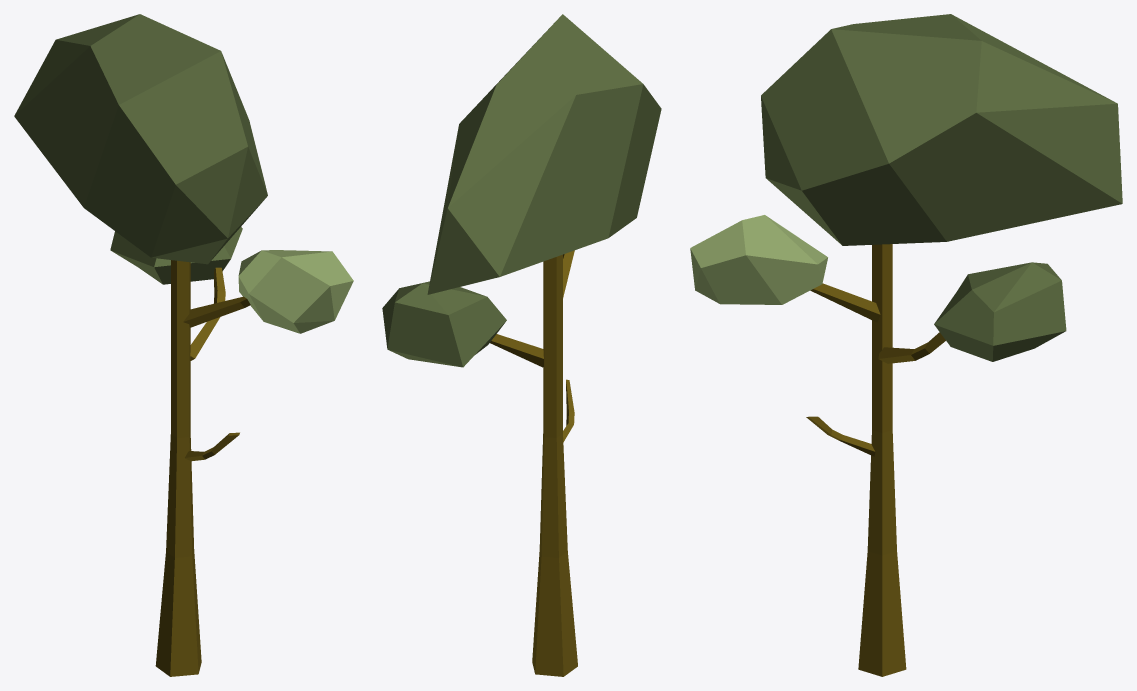
File: Tree_02.fbx
3 views of the same model, side by side, from view 1: azimuth 30°, elevation 25°; view 2: azimuth 150°, elevation 25°; view 3: azimuth 270°, elevation 25° (orthographic). The views are drawn at different scales.
Visible parts, largest first — view 1: pCylinder18; view 2: pCylinder18; view 3: pCylinder18.
Part boxes in pixels (left/top/right/bottom): pCylinder18: left=14, top=14, right=353, bottom=676; pCylinder18: left=382, top=14, right=661, bottom=676; pCylinder18: left=690, top=14, right=1122, bottom=676.
Bounding box in the file's own units: 81.94 × 257 × 156.
